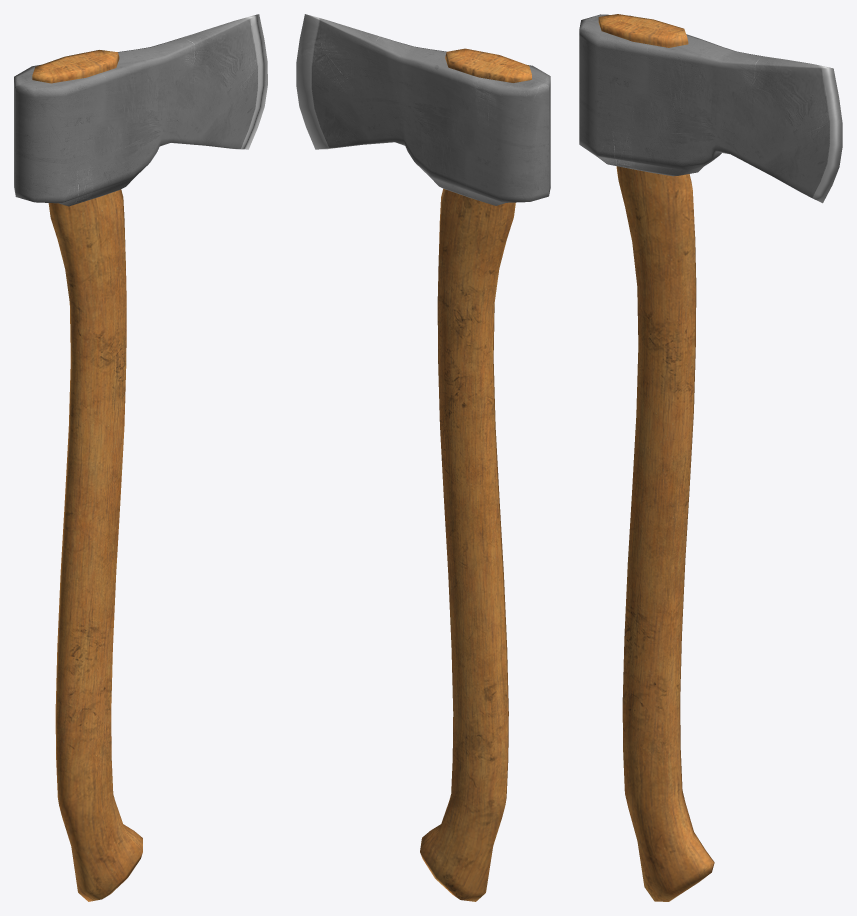
File: WoodAxe.fbx
The picture shows the model from 3 angles, left to right: view 1: azimuth 30°, elevation 25°; view 2: azimuth 150°, elevation 25°; view 3: azimuth 330°, elevation 25°; orthographic projection. The views are drawn at different scales.
Parts seen in each view (by area): view 1: WoodAxe_LOD0; view 2: WoodAxe_LOD0; view 3: WoodAxe_LOD0.
Part boxes in pixels (x1=…): WoodAxe_LOD0: x1=14, y1=14, x2=267, y2=901; WoodAxe_LOD0: x1=296, y1=14, x2=550, y2=901; WoodAxe_LOD0: x1=579, y1=14, x2=842, y2=901.
Size of what is drawn, in the model's own units: 21.07 by 67.48 by 4.75.
